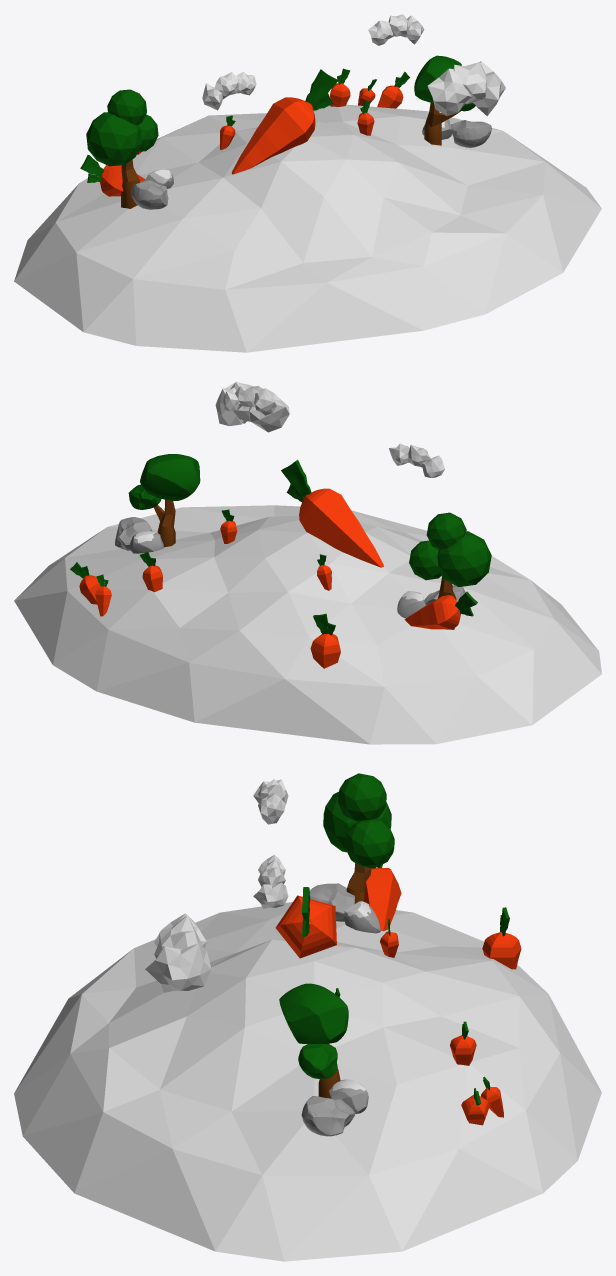
Rendered from carrot_detach_RE.FBX.
3 views of the same model, one above another, from view 1: azimuth 30°, elevation 25°; view 2: azimuth 150°, elevation 25°; view 3: azimuth 270°, elevation 25° (orthographic). The views are drawn at different scales.
Parts seen in each view (by area): view 1: Object011, GeoSphere009, Object001, Object005, Object002, Object004, Object003, Object008, Object007; view 2: Object011, GeoSphere009, Object001, Object005, Object002, Object003, Object010, Object004, Object008, Object007; view 3: Object011, GeoSphere009, Object001, Object002, Object005, Object003, Object004, Object010, Object007, Object008.
Boxes of the visible parts, left/top/right/bottom form: Object011: left=14, top=104, right=601, bottom=352; GeoSphere009: left=80, top=14, right=505, bottom=196; Object001: left=86, top=89, right=158, bottom=208; Object005: left=231, top=69, right=337, bottom=174; Object002: left=414, top=55, right=475, bottom=145; Object004: left=131, top=169, right=173, bottom=209; Object003: left=422, top=119, right=491, bottom=147; Object008: left=377, top=71, right=409, bottom=108; Object007: left=330, top=68, right=350, bottom=106; Object011: left=14, top=505, right=601, bottom=744; GeoSphere009: left=215, top=381, right=477, bottom=629; Object001: left=409, top=512, right=491, bottom=629; Object005: left=281, top=460, right=384, bottom=567; Object002: left=128, top=454, right=200, bottom=547; Object003: left=115, top=517, right=163, bottom=553; Object010: left=310, top=613, right=340, bottom=668; Object004: left=397, top=585, right=465, bottom=618; Object008: left=70, top=562, right=100, bottom=604; Object007: left=139, top=552, right=162, bottom=592; Object011: left=14, top=902, right=601, bottom=1261; GeoSphere009: left=145, top=779, right=401, bottom=992; Object001: left=323, top=773, right=394, bottom=903; Object002: left=279, top=983, right=348, bottom=1098; Object005: left=275, top=887, right=336, bottom=958; Object003: left=301, top=1079, right=368, bottom=1136; Object004: left=309, top=883, right=380, bottom=933; Object010: left=482, top=907, right=521, bottom=969; Object007: left=450, top=1021, right=476, bottom=1065; Object008: left=461, top=1088, right=490, bottom=1125.
Size of the model in its own units: 237 by 97.19 by 182.
